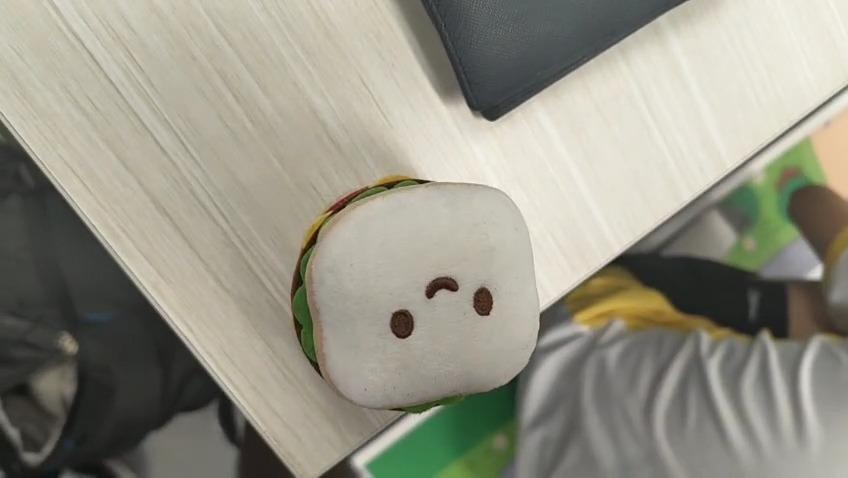objects: (296, 173, 544, 401)
